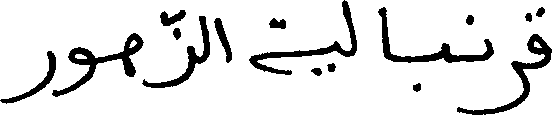ا: (213, 16, 233, 63), (379, 4, 392, 60)
ب: (412, 41, 451, 92)
ة: (248, 16, 303, 75)
ر: (0, 48, 57, 104), (497, 10, 528, 112)
ز: (161, 7, 194, 88)
ق: (527, 4, 550, 94)
ل: (340, 0, 358, 58), (196, 13, 209, 63)
ن: (462, 14, 493, 68)
ه: (120, 31, 141, 86)
و: (64, 45, 95, 95)
ي: (309, 39, 340, 79)
